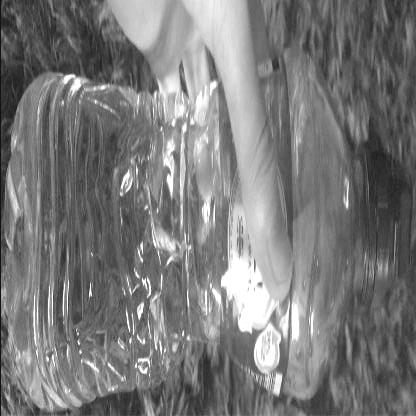bottle: (0, 9, 409, 415)
